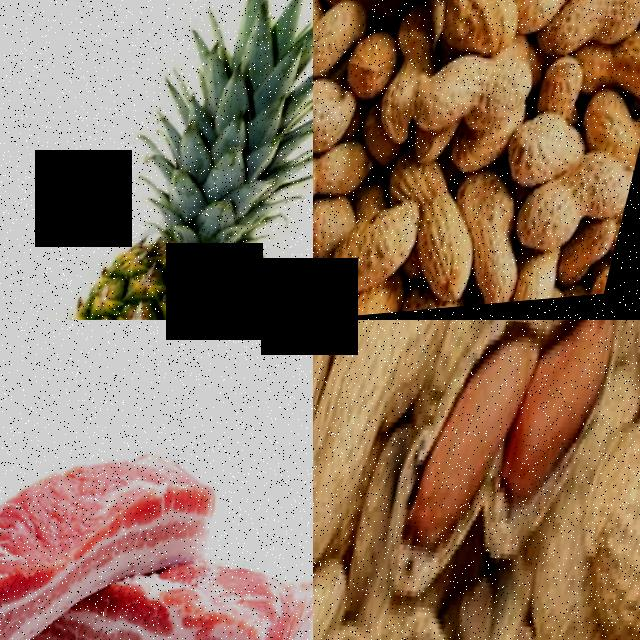peanuts: (313, 320, 458, 573), (403, 328, 539, 562), (500, 320, 620, 522), (558, 419, 640, 640), (415, 46, 543, 150), (537, 150, 640, 265), (333, 196, 429, 310), (313, 320, 346, 562), (313, 0, 377, 88), (313, 73, 367, 165), (391, 0, 498, 27)
pineapple: (1, 68, 313, 320)
pork belly: (3, 426, 237, 608), (65, 532, 313, 640)
